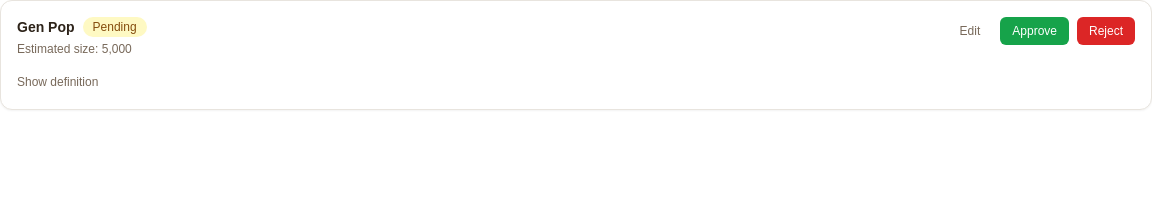
SegmentCard › definition JSON preview › reveals JSON content when toggled
Click the button "Show definition". click: (58, 82)
box: top-left (17, 74), bottom-right (98, 90)
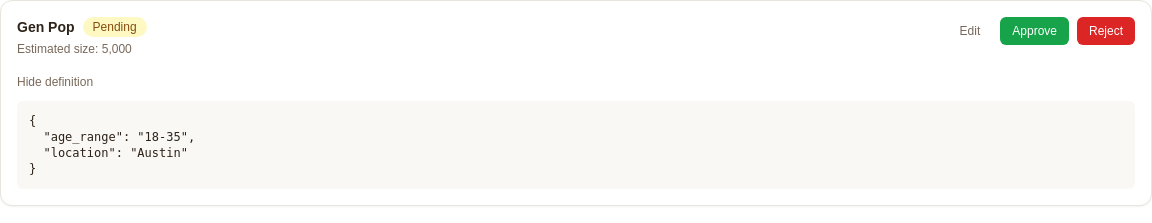
Check: the text "{ \"age_range\": \"18-35\", \"location\": \"Austin\" }" is shown, box top-left (17, 101), bottom-right (1135, 189)
